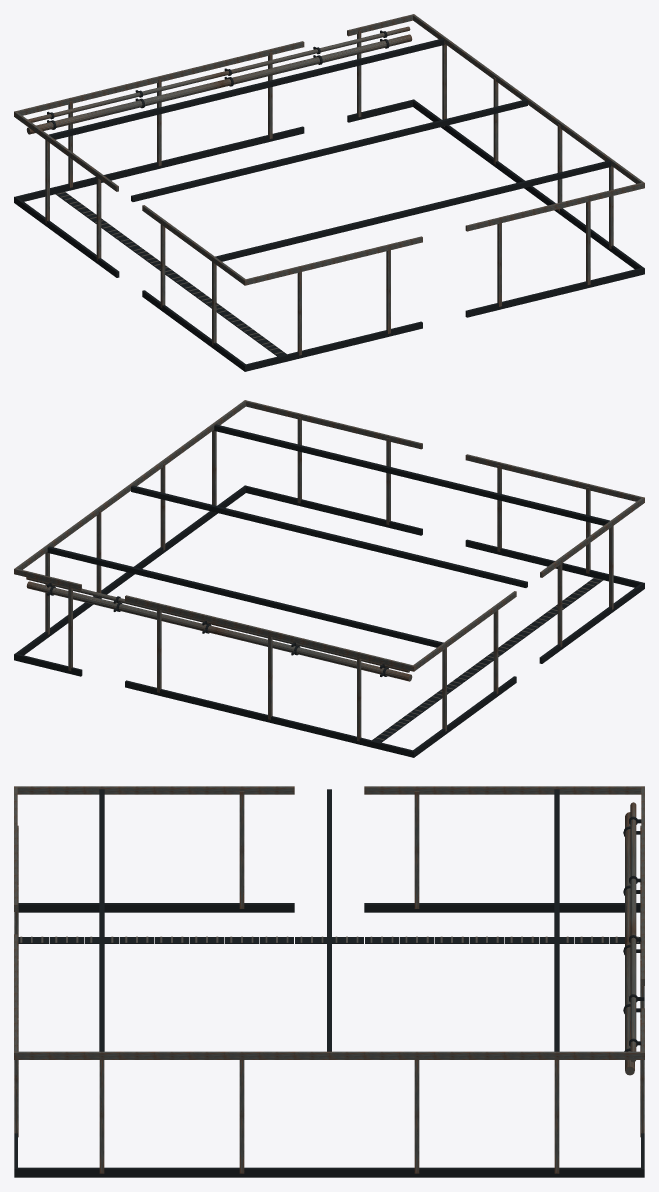
The model's file is ServiceStructure06.obj.
The picture shows the model from 3 angles, top to bottom: view 1: azimuth 30°, elevation 25°; view 2: azimuth 150°, elevation 25°; view 3: azimuth 270°, elevation 25°; orthographic projection. The views are drawn at different scales.
Parts seen in each view (by area): view 1: ServiceStructure06; view 2: ServiceStructure06; view 3: ServiceStructure06.
Boxes of the visible parts, x1,y1,x2,y2 form: ServiceStructure06: [14, 14, 644, 371]; ServiceStructure06: [14, 400, 644, 757]; ServiceStructure06: [14, 786, 644, 1177].
Bounding box in the file's own units: 18.02 × 3.93 × 18.02.
Materials: 3 (2 with a texture image).
